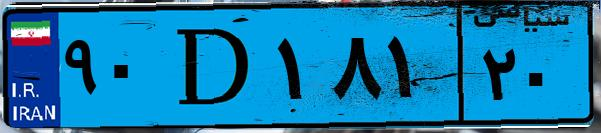0: (525, 38, 570, 115), (110, 28, 158, 98)
1: (270, 28, 330, 110), (385, 28, 445, 110)
2: (475, 38, 525, 113)
8: (330, 28, 385, 110)
9: (57, 26, 110, 100)
D: (158, 12, 270, 120)
